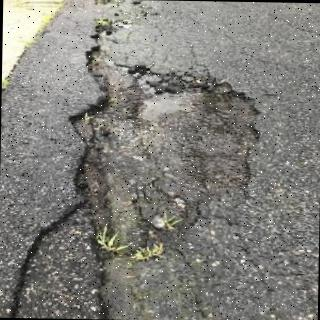pothole: (13, 21, 263, 319)
